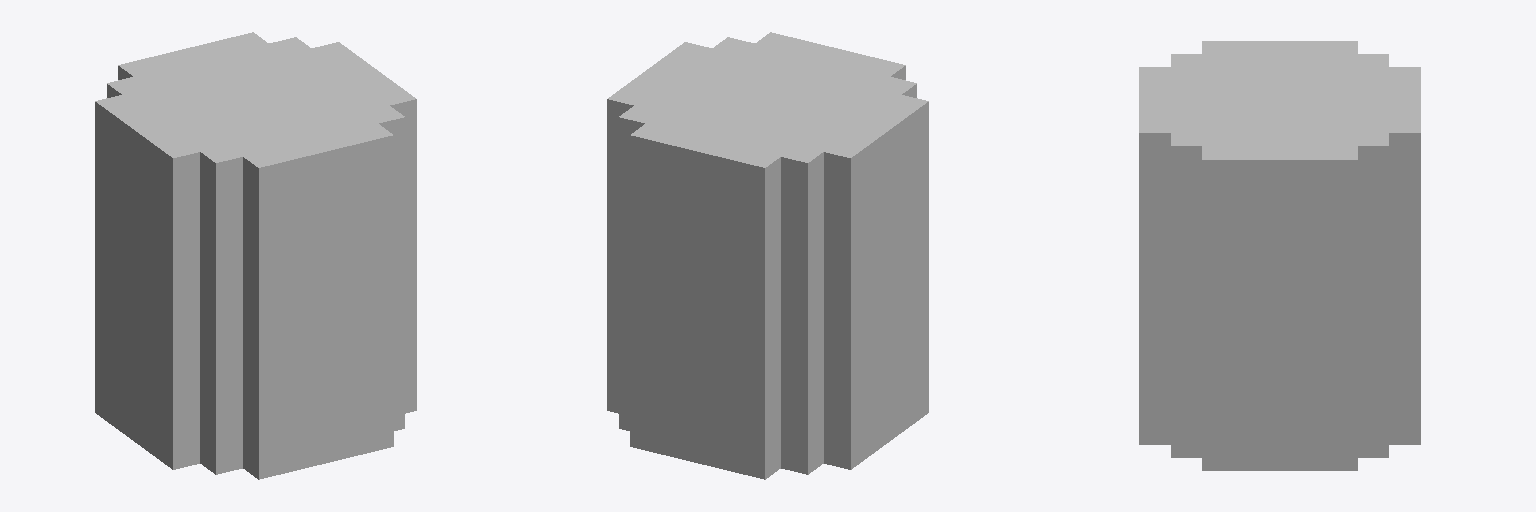
File: Trash.obj
3 views of the same model, side by side, from view 1: azimuth 30°, elevation 25°; view 2: azimuth 150°, elevation 25°; view 3: azimuth 270°, elevation 25° (orthographic).
Parts seen in each view (by area): view 1: object 1; view 2: object 1; view 3: object 1.
Boxes of the visible parts, box(x1,y1,x2,y2) form: object 1: box(95, 32, 416, 479); object 1: box(607, 32, 928, 479); object 1: box(1139, 41, 1420, 470).
Size of the model in its own units: 0.9 by 1.1 by 0.9.